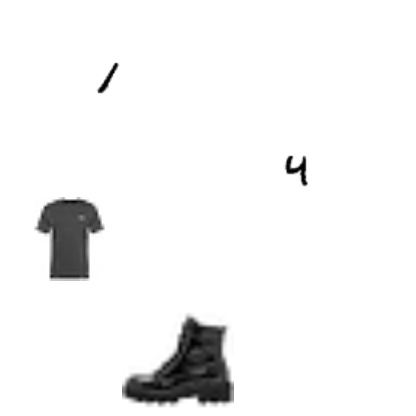1: (86, 57, 128, 99)
4: (276, 147, 318, 189)
Ankle_boot: (122, 302, 234, 414)
T-shirt/top: (26, 197, 110, 281)
